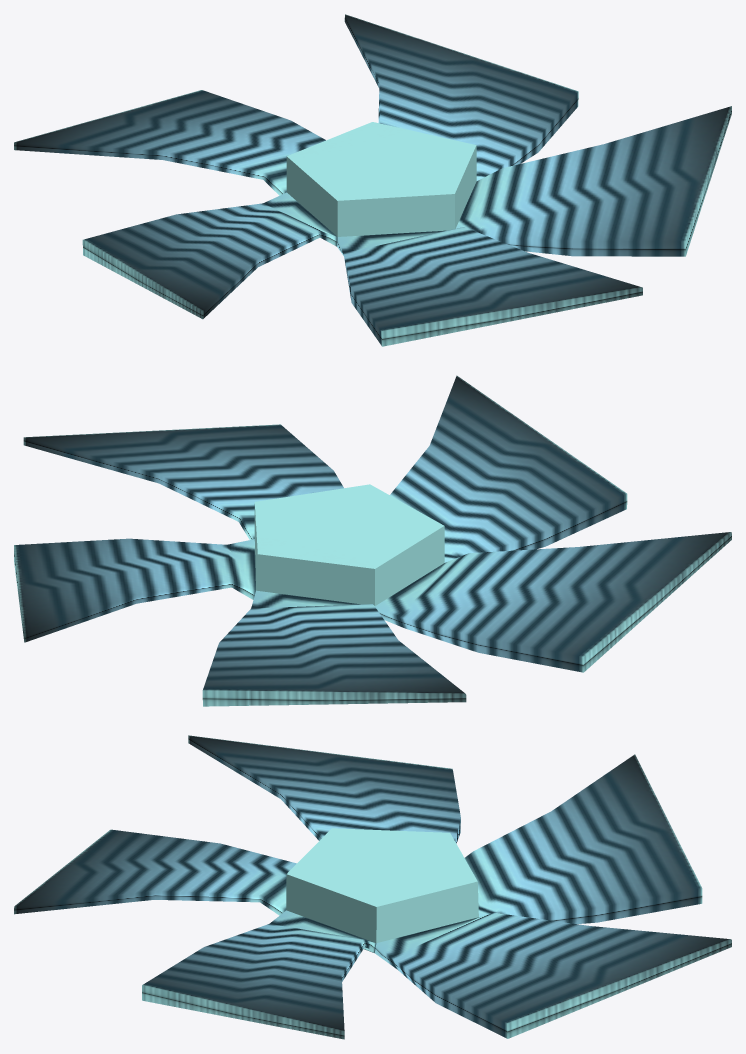
Rendered from Fan_Fix.fbx.
3 views of the same model, one above another, from view 1: azimuth 30°, elevation 25°; view 2: azimuth 150°, elevation 25°; view 3: azimuth 270°, elevation 25° (orthographic). The views are drawn at different scales.
Parts seen in each view (by area): view 1: FanBase2; view 2: FanBase2; view 3: FanBase2.
Part boxes in pixels (left/top/right/bottom): FanBase2: left=14, top=14, right=731, bottom=346; FanBase2: left=14, top=375, right=731, bottom=706; FanBase2: left=14, top=735, right=731, bottom=1039.
Bounding box in the file's own units: 4.86 × 0.423 × 4.96.
